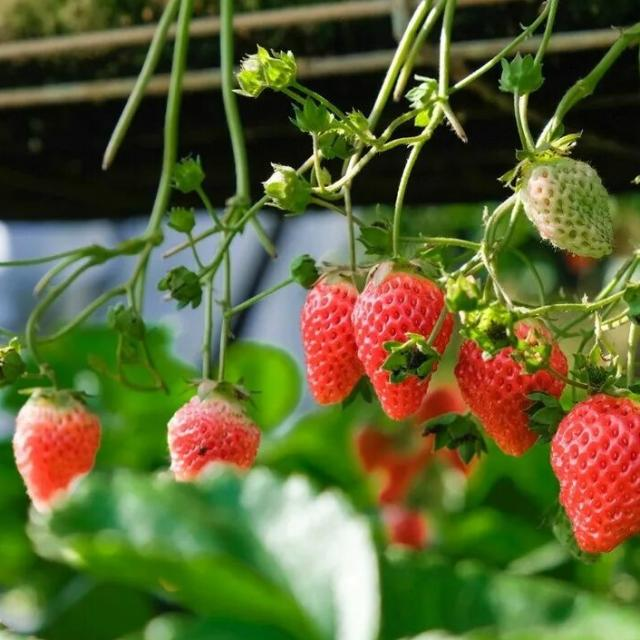Ripe Strawberry: (552, 401, 640, 560), (358, 267, 449, 417), (460, 340, 546, 457), (13, 392, 101, 494), (160, 389, 266, 467), (303, 276, 350, 412)
